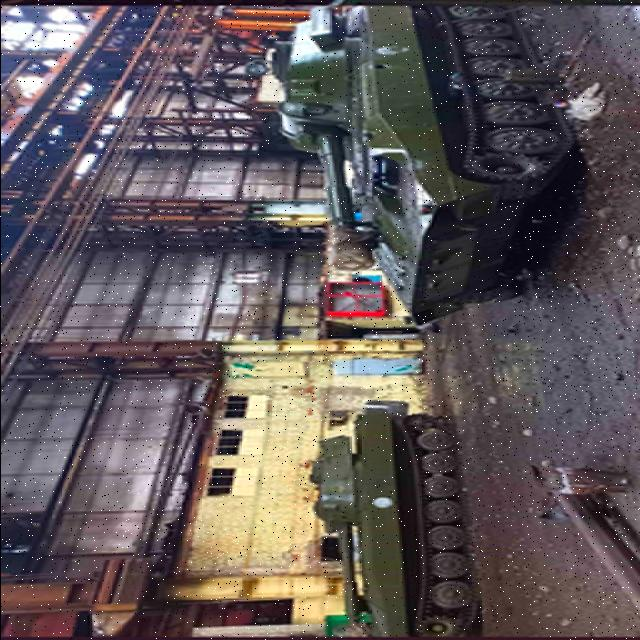ART: (244, 6, 576, 330), (293, 408, 482, 640)
